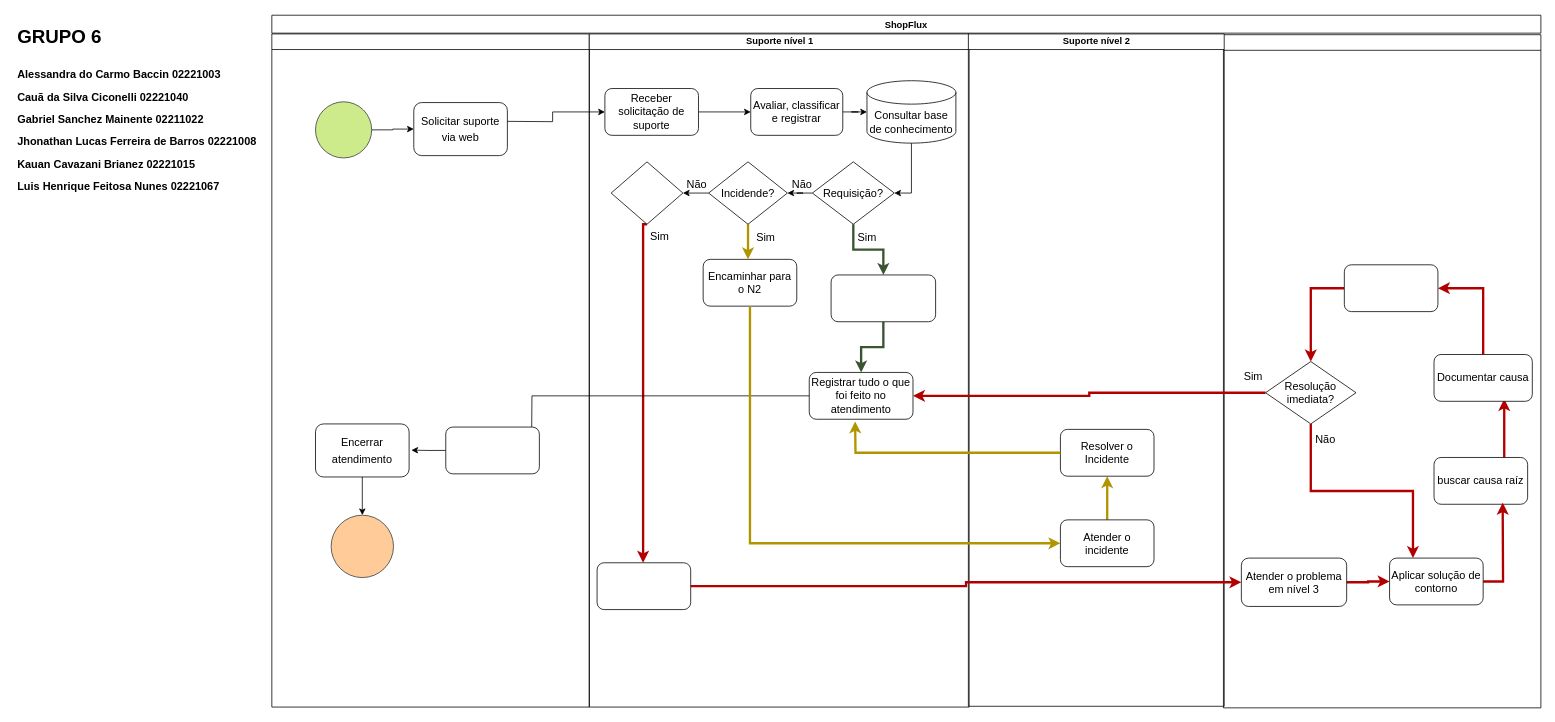
Image size: 1555x722. Some labels were removed from this diagram. The shapes that lost their labels are listed below. From the top down, each one's box as (x1, y1, x2, y2) in pixels, then its label:
(315, 101, 372, 158): Inicio
(610, 161, 683, 224): Problema?
(830, 274, 936, 322): Atender a requisição
(1344, 264, 1438, 312): Resolver
(271, 33, 589, 707): Usuário
(1223, 34, 1541, 708): Suporte nível 3
(445, 426, 539, 474): Pesquisa de satisfação
(330, 514, 394, 578): Fim
(596, 562, 691, 610): Encaminhar para o N3
